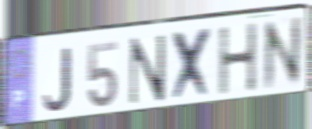5: (86, 39, 120, 109)
H: (217, 20, 259, 97)
J: (42, 45, 73, 113)
N: (261, 13, 304, 94), (127, 32, 168, 107)
X: (170, 25, 215, 104)
